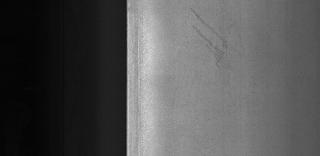water spot: (186, 4, 244, 72)
